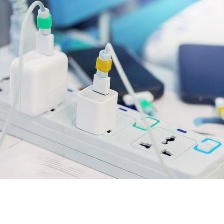phone: (62, 43, 167, 113), (173, 40, 224, 107)
three_eye_plug: (0, 57, 224, 200)
